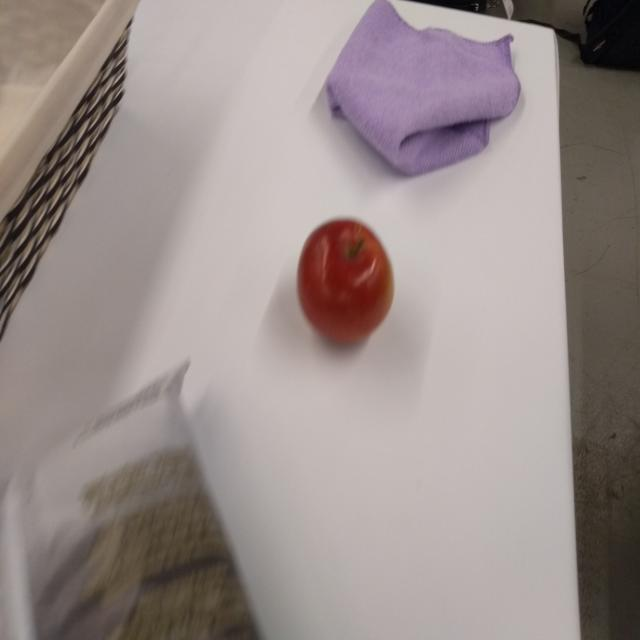apple: (294, 216, 402, 346)
